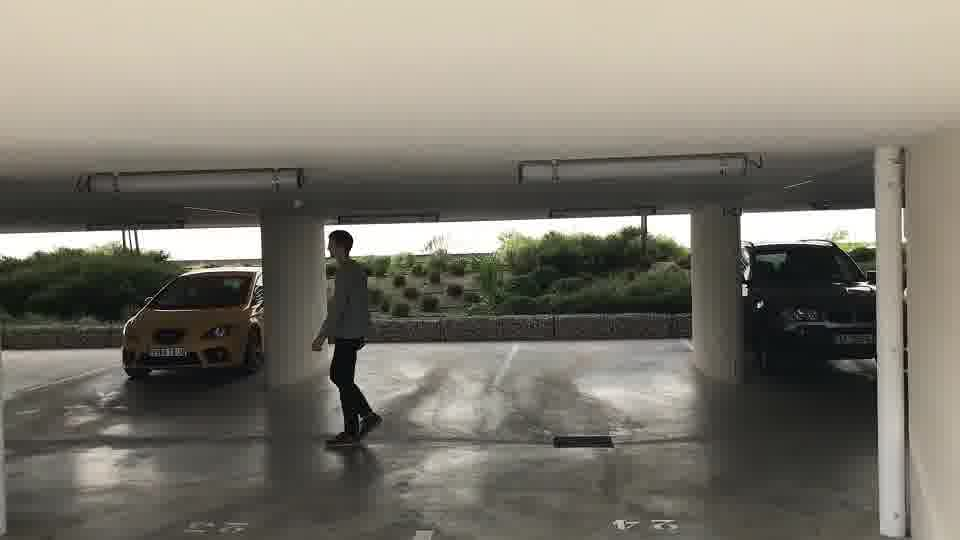jugador: (299, 224, 393, 456)
